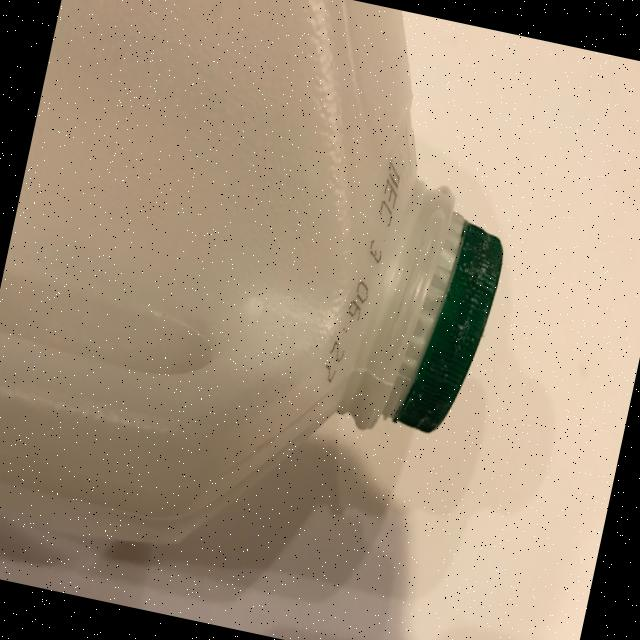plastic: (0, 0, 549, 610)
